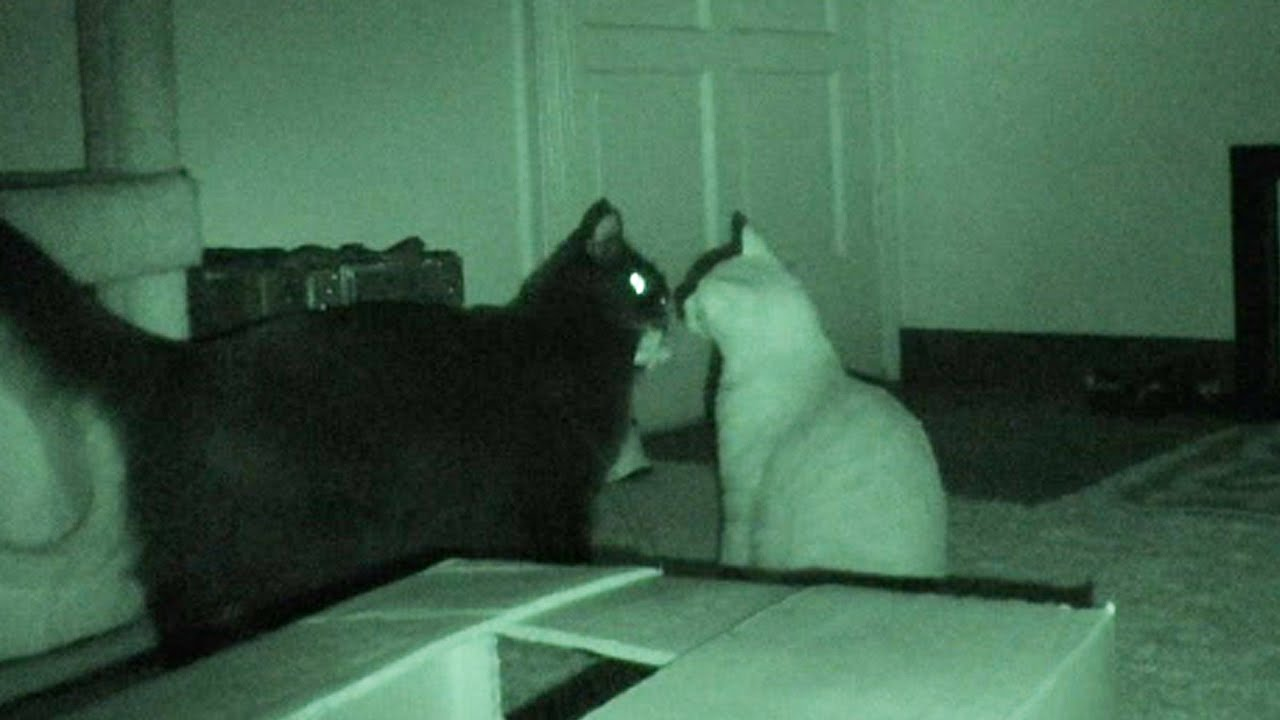house cat: (2, 136, 650, 644), (673, 171, 961, 668)
